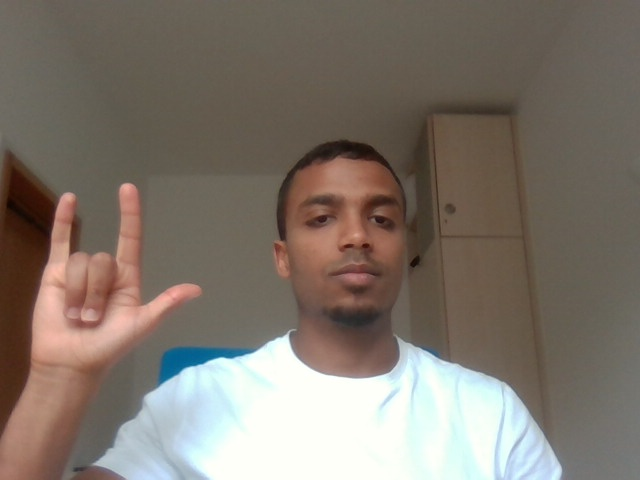absolutely: (20, 163, 212, 380)
